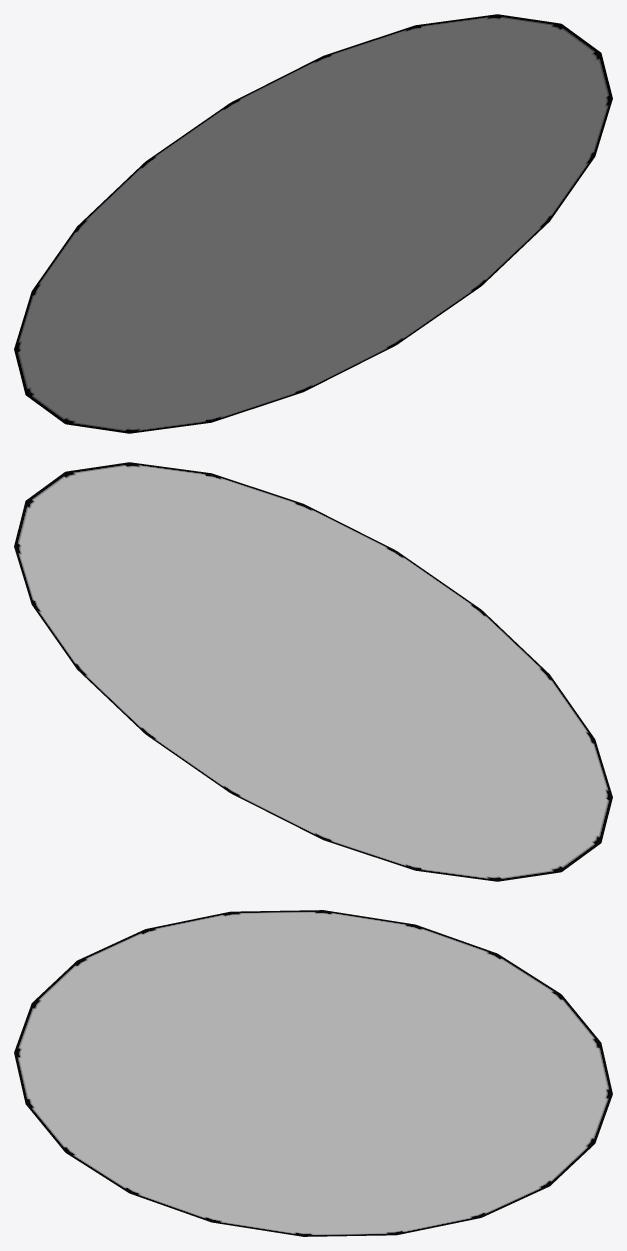
3 views of the same model, one above another, from view 1: azimuth 30°, elevation 25°; view 2: azimuth 150°, elevation 25°; view 3: azimuth 330°, elevation 25° (orthographic).
Visible parts, largest first — view 1: Joint_0_Object_0; view 2: Joint_0_Object_0; view 3: Joint_0_Object_0.
Part boxes in pixels (left/top/right/bottom): Joint_0_Object_0: left=14, top=14, right=612, bottom=433; Joint_0_Object_0: left=14, top=462, right=612, bottom=881; Joint_0_Object_0: left=14, top=910, right=612, bottom=1236.
Bounding box in the file's own units: 90.3 × 50.09 × 0.
1 material, 1 textured.
